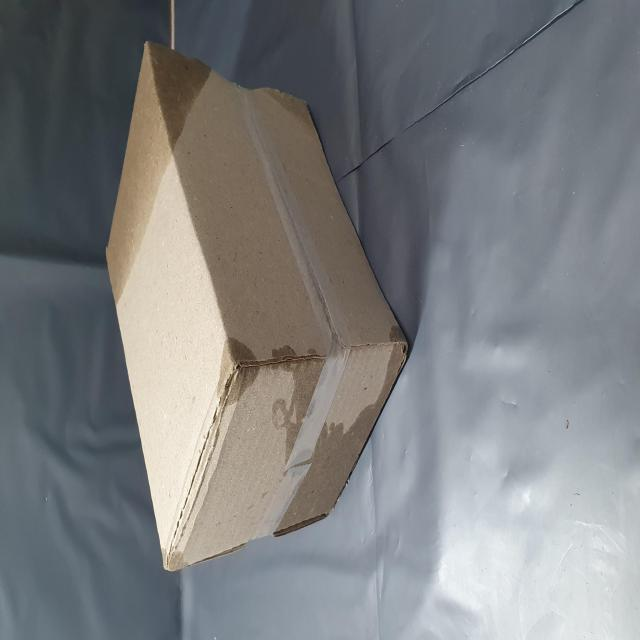wet: (194, 181, 338, 370), (59, 485, 160, 640)
